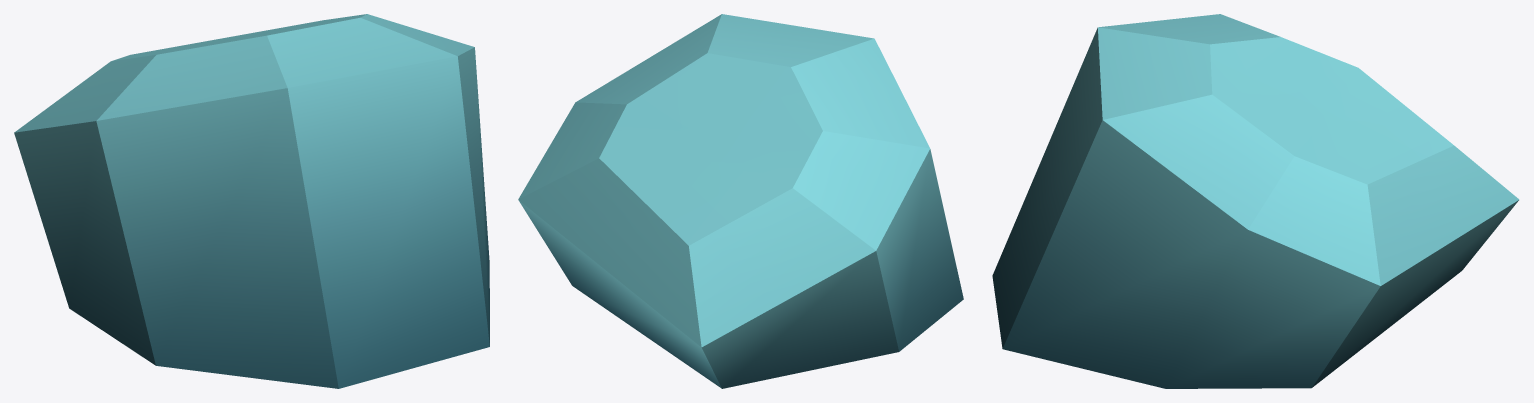
File: crystal_2.001.fbx
3 views of the same model, side by side, from view 1: azimuth 30°, elevation 25°; view 2: azimuth 150°, elevation 25°; view 3: azimuth 270°, elevation 25° (orthographic). The views are drawn at different scales.
Parts seen in each view (by area): view 1: crystal_2.001; view 2: crystal_2.001; view 3: crystal_2.001.
Boxes of the visible parts, left/top/right/bottom form: crystal_2.001: left=14, top=14, right=489, bottom=388; crystal_2.001: left=518, top=14, right=963, bottom=388; crystal_2.001: left=992, top=14, right=1519, bottom=388.
Size of the model in its own units: 0.3428 by 0.2118 by 0.4035.
